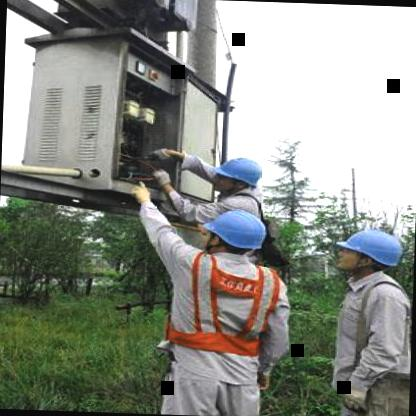helmet: (198, 204, 268, 261), (332, 227, 404, 282), (208, 150, 269, 206)
